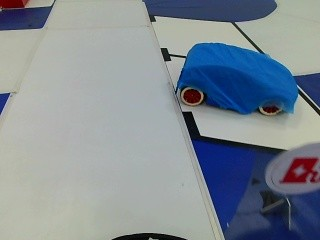battery: (270, 153, 318, 192)
car: (178, 40, 295, 119)
